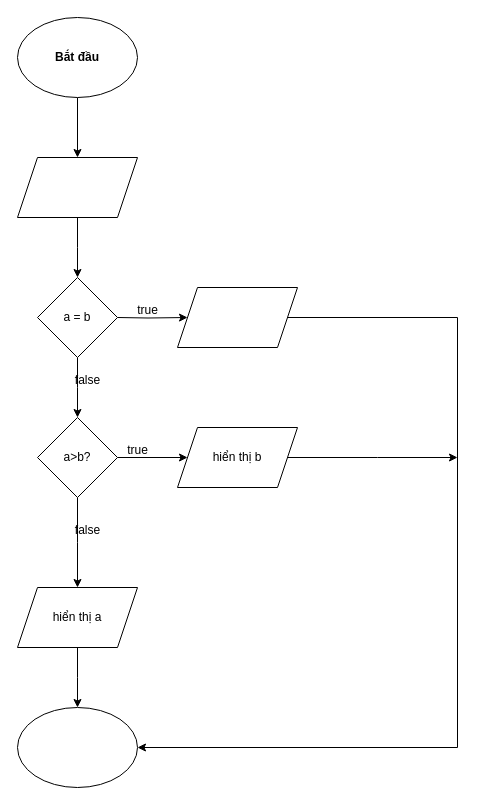
This 483x805 diagram has some shape labels left out. The box of each missing label's shape, as (x1, y1, x2, y2) in pixels:
hiển thị a và b: (176, 286, 298, 348)
kết thúc: (16, 706, 138, 788)
nhập a,b: (16, 156, 138, 218)
